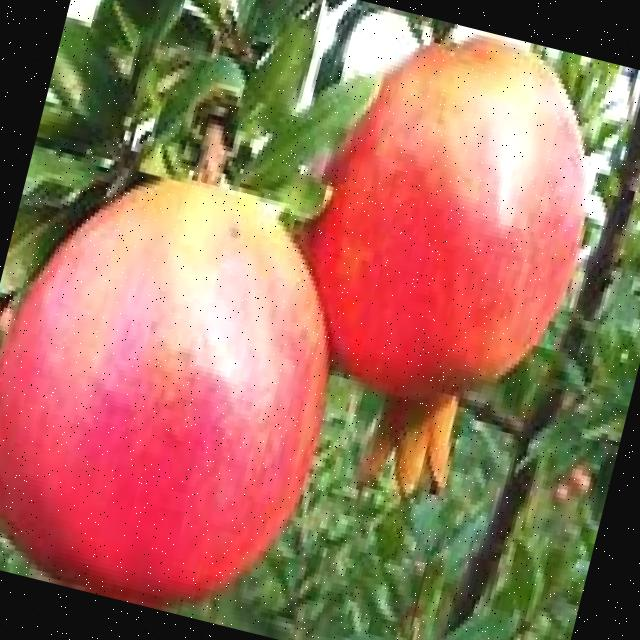Pomegranate: (246, 2, 626, 523), (0, 141, 369, 636)
